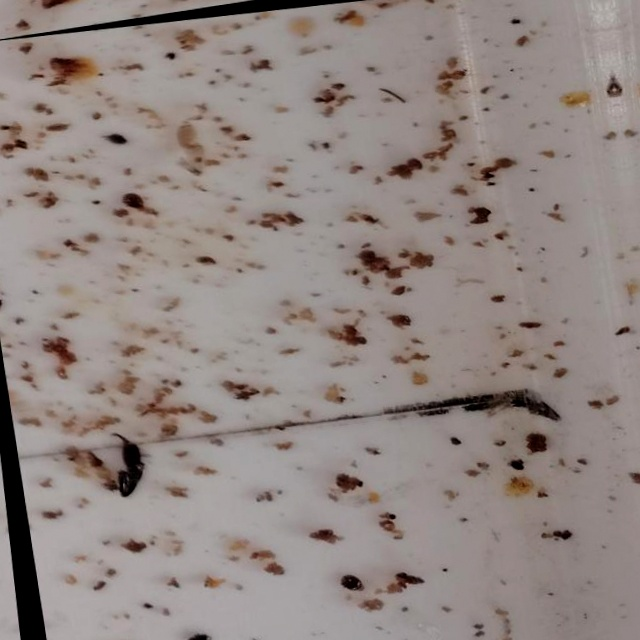varroa: (121, 191, 145, 213), (338, 573, 361, 594)
